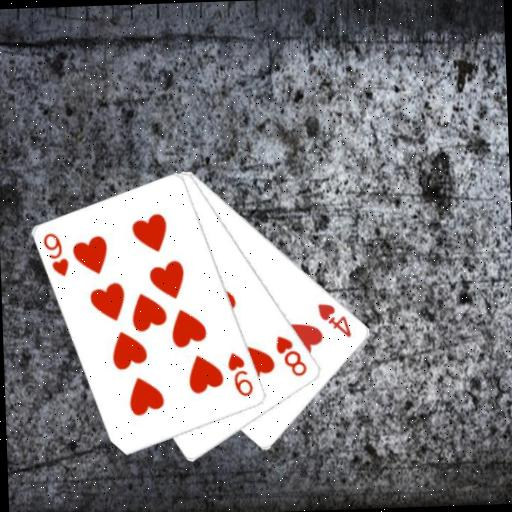4H: (314, 299, 354, 340)
8H: (272, 332, 309, 379)
9H: (224, 349, 256, 399), (40, 229, 72, 279)
